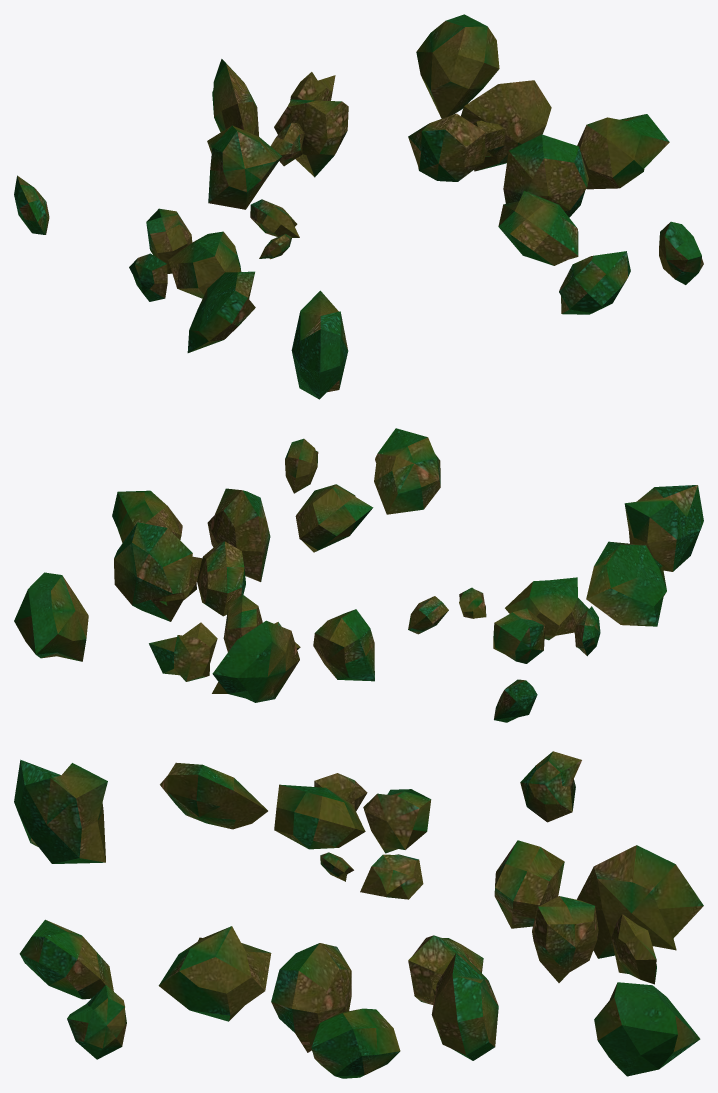
The model's file is pebbles_2.glb.
The picture shows the model from 3 angles, top to bottom: view 1: azimuth 30°, elevation 25°; view 2: azimuth 150°, elevation 25°; view 3: azimuth 270°, elevation 25°; orthographic projection. The views are drawn at different scales.
Parts seen in each view (by area): view 1: pebbles; view 2: pebbles; view 3: pebbles.
Boxes of the visible parts, bbox=[...] form: pebbles: bbox=[14, 14, 703, 399]; pebbles: bbox=[14, 428, 703, 722]; pebbles: bbox=[14, 751, 703, 1078].
Size of the model in its own units: 1.91 by 0.3453 by 1.91.
Materials: 1 (1 with a texture image).
